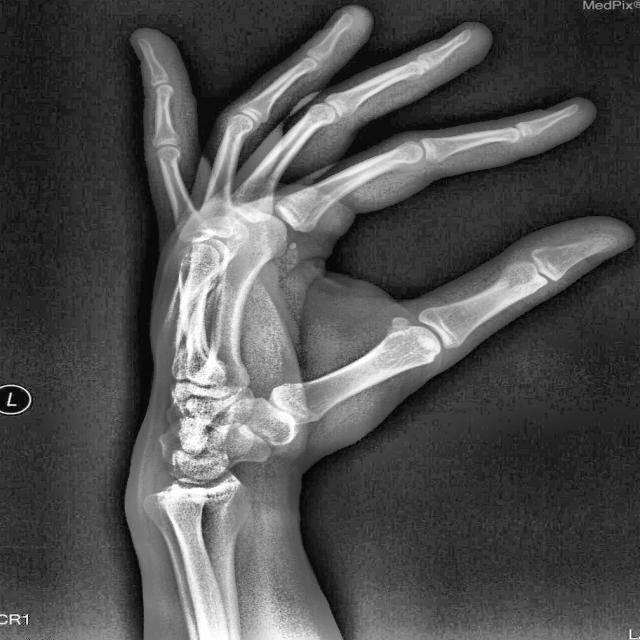fracture: (159, 317, 194, 357)
